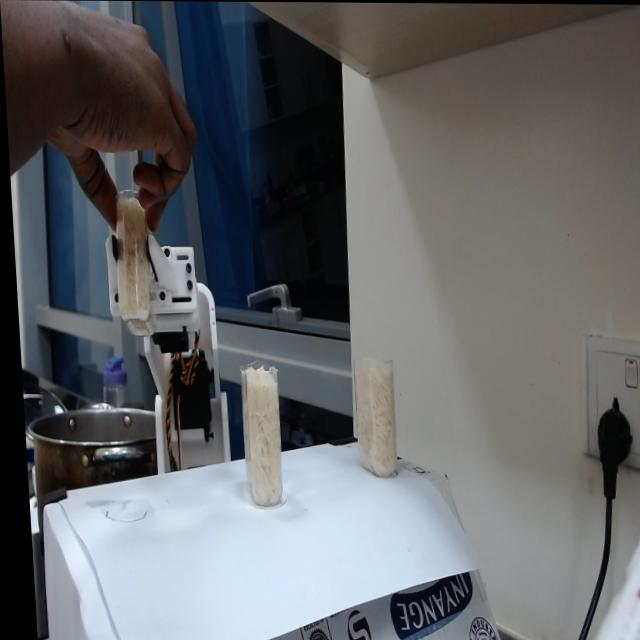raw_rice: (237, 363, 276, 504), (348, 354, 392, 475), (112, 196, 150, 336)
